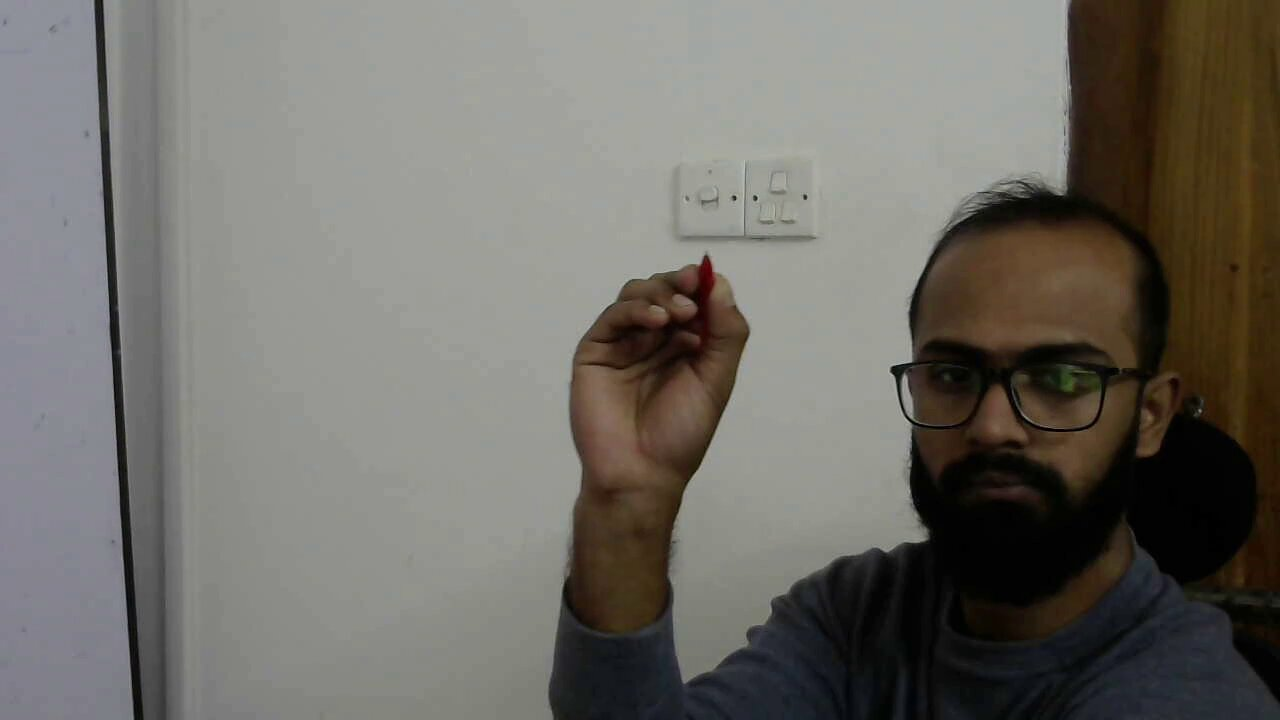pointer: (576, 264, 753, 383)
